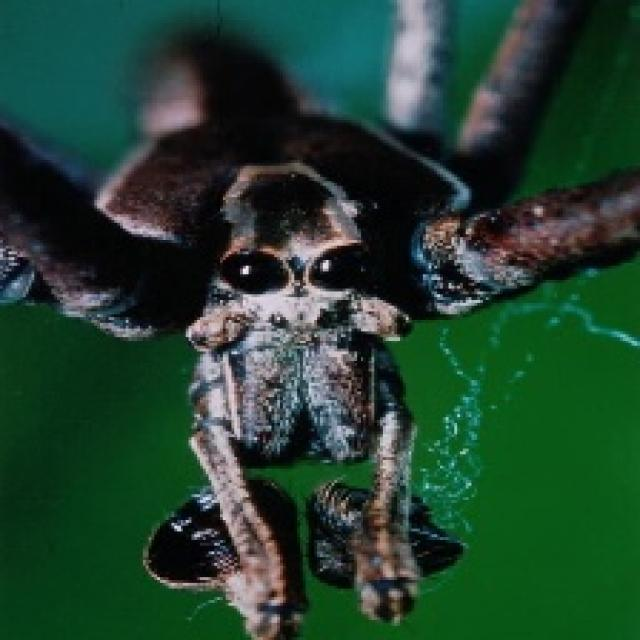Non venomous spider: (26, 114, 612, 596)
